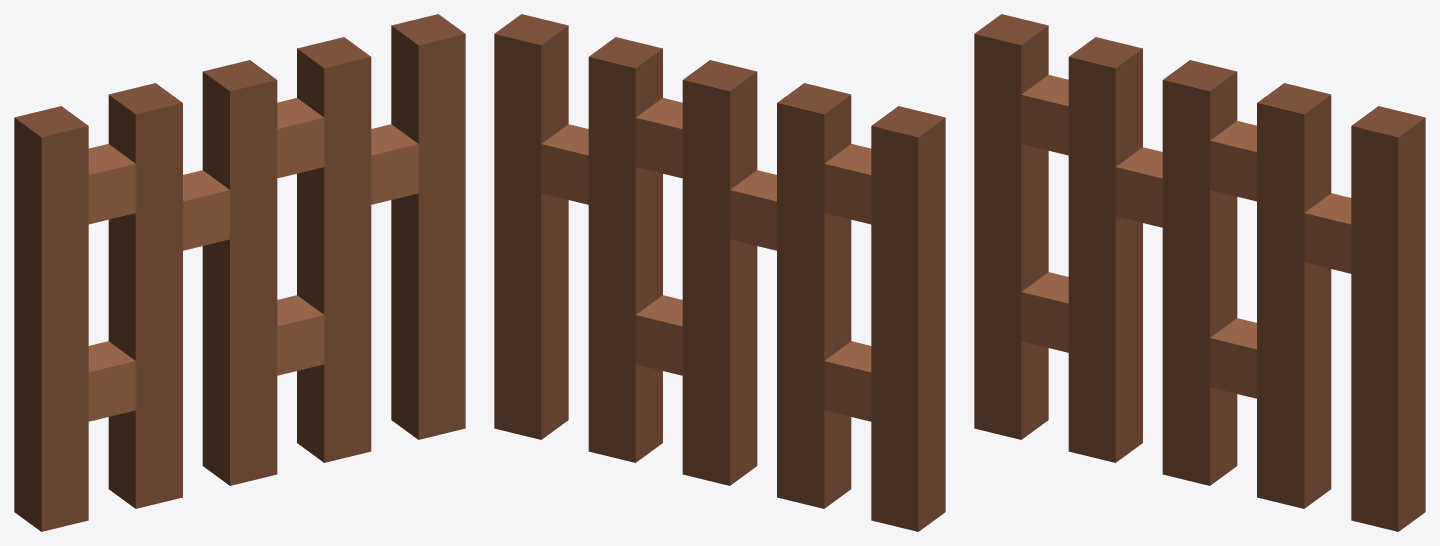
The model's file is A3D_sample_woodenFence.fbx.
The picture shows the model from 3 angles, left to right: view 1: azimuth 30°, elevation 25°; view 2: azimuth 150°, elevation 25°; view 3: azimuth 330°, elevation 25°; orthographic projection.
Visible parts, largest first — view 1: castle_fence_left_cont; view 2: castle_fence_left_cont; view 3: castle_fence_left_cont.
Part boxes in pixels (<box>): castle_fence_left_cont: <box>14,14,465,531</box>; castle_fence_left_cont: <box>494,14,945,531</box>; castle_fence_left_cont: <box>974,14,1425,531</box>.
Bounding box in the file's own units: 9 × 8 × 1.
